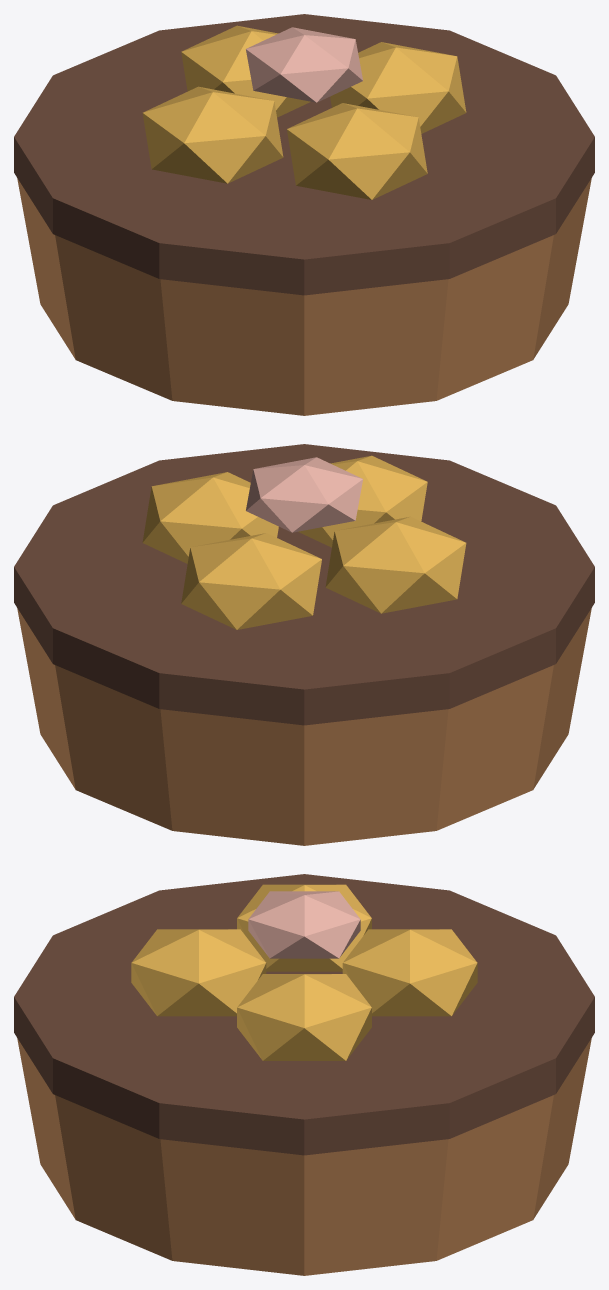
File: pastry_basket.glb
3 renders of one model, top to bottom at view 1: azimuth 30°, elevation 25°; view 2: azimuth 150°, elevation 25°; view 3: azimuth 270°, elevation 25°, orthographic.
Parts seen in each view (by area): view 1: pastry_basket; view 2: pastry_basket; view 3: pastry_basket.
Part boxes in pixels (box(x1,y1,x2,y2)): pastry_basket: box(14, 14, 594, 415); pastry_basket: box(14, 444, 594, 845); pastry_basket: box(14, 874, 594, 1275).
Bounding box in the file's own units: 0.44 × 0.225 × 0.44.
